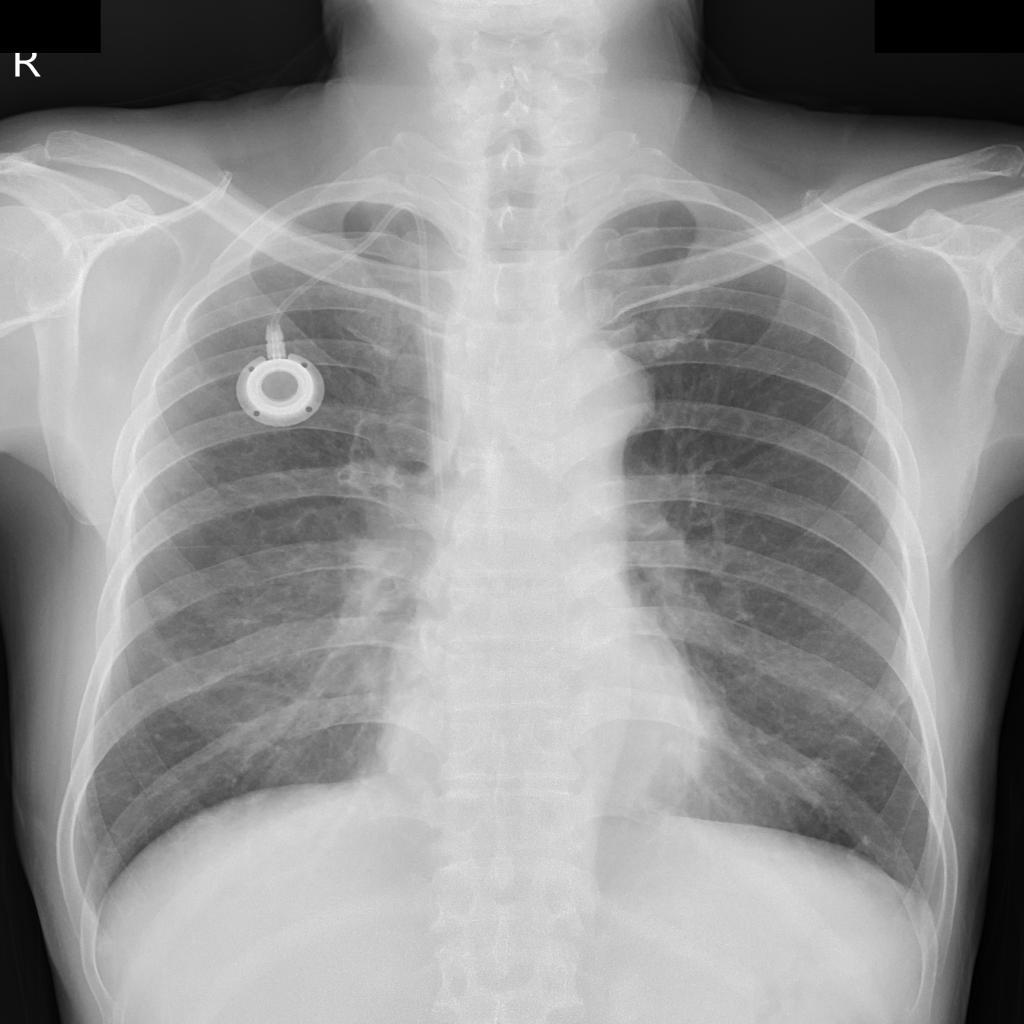Nodule: (154, 596, 181, 619)
